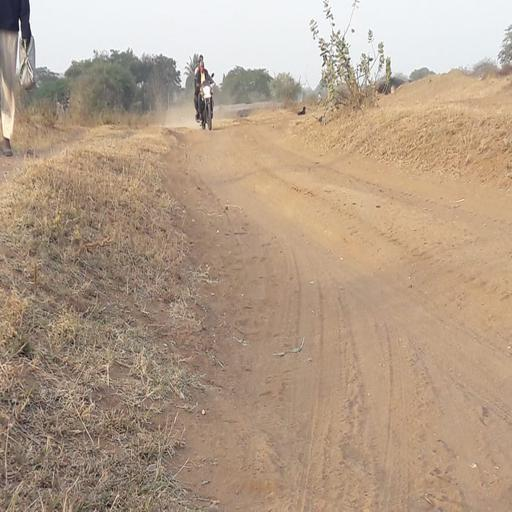vehicle_track: (184, 128, 512, 512)
